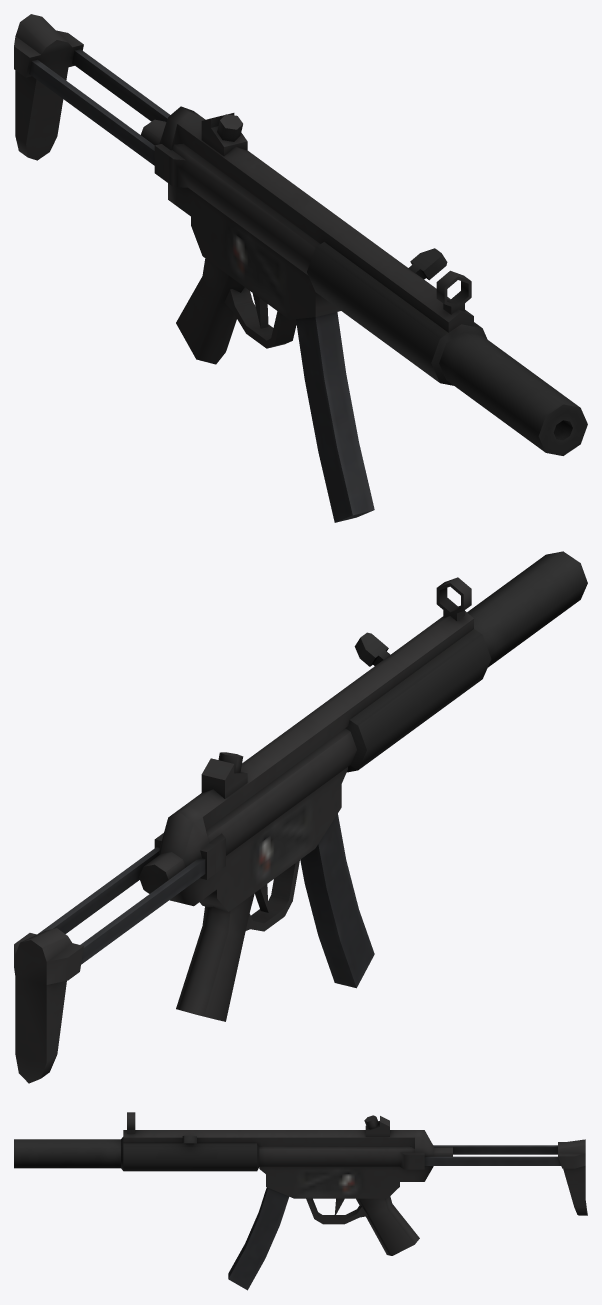
3 views of the same model, one above another, from view 1: azimuth 30°, elevation 25°; view 2: azimuth 150°, elevation 25°; view 3: azimuth 270°, elevation 25° (orthographic). The views are drawn at different scales.
Visible parts, largest first — view 1: MP5SD; view 2: MP5SD; view 3: MP5SD.
Boxes of the visible parts, box(x1,y1,x2,y2) form: MP5SD: box(14, 14, 587, 522); MP5SD: box(14, 551, 587, 1083); MP5SD: box(14, 1112, 587, 1290).
Size of the model in its own units: 6.62 by 28.2 by 83.77.
1 material, 1 textured.
